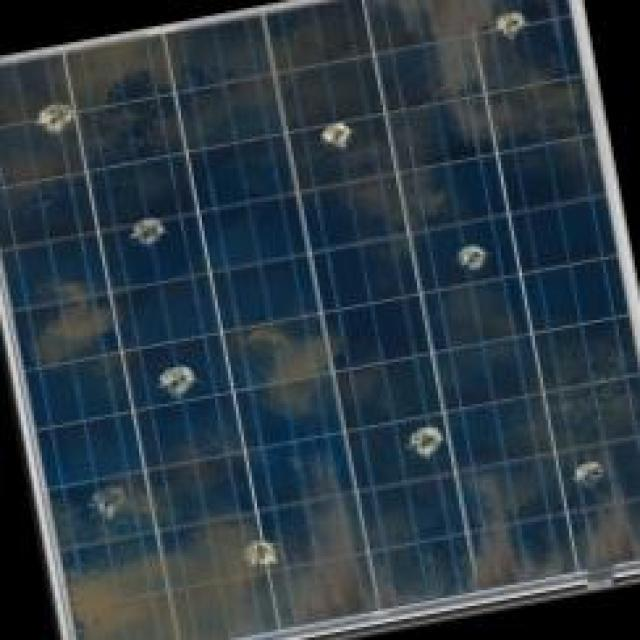Physical-damage: (271, 83, 397, 204), (192, 496, 312, 602), (391, 408, 478, 507), (140, 336, 212, 445), (256, 324, 328, 416), (83, 466, 155, 554), (442, 225, 512, 308), (78, 566, 164, 630), (126, 198, 183, 274), (567, 448, 621, 526), (37, 98, 99, 158), (470, 524, 524, 584), (84, 49, 182, 81), (491, 1, 543, 61)
